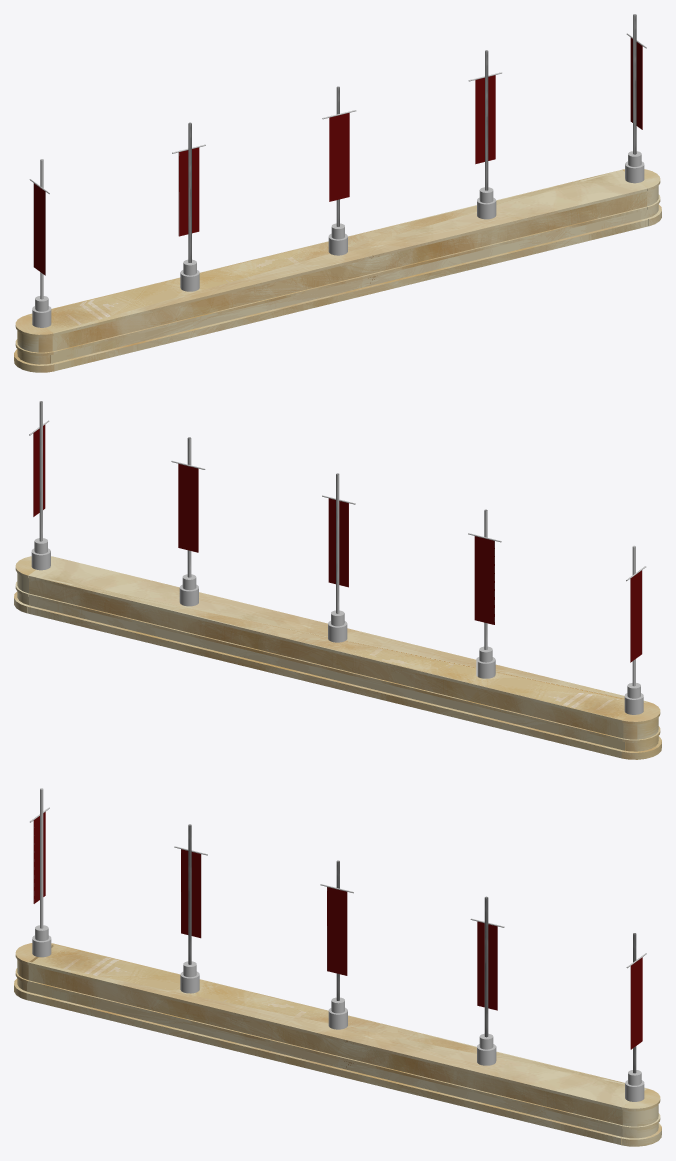
Rendered from NEWMEDIAN7_28_16.fbx.
The picture shows the model from 3 angles, top to bottom: view 1: azimuth 30°, elevation 25°; view 2: azimuth 150°, elevation 25°; view 3: azimuth 330°, elevation 25°; orthographic projection.
Visible parts, largest first — view 1: polySurface29, polySurface31, polySurface23, polySurface25, polySurface19, polySurface27, polySurface21, polySurface30, polySurface7, polySurface10, polySurface16; view 2: polySurface29, polySurface31, polySurface19, polySurface25, polySurface23, polySurface27, polySurface21, polySurface30, polySurface7, polySurface13; view 3: polySurface29, polySurface30, polySurface23, polySurface25, polySurface19, polySurface21, polySurface27, polySurface31, polySurface10, polySurface16, polySurface4.
Boxes of the visible parts, x1=… form: polySurface29: x1=28, y1=169, x2=648, y2=371; polySurface31: x1=14, y1=314, x2=54, y2=372; polySurface23: x1=329, y1=113, x2=349, y2=201; polySurface25: x1=178, y1=147, x2=199, y2=236; polySurface19: x1=475, y1=75, x2=495, y2=164; polySurface27: x1=33, y1=183, x2=45, y2=275; polySurface21: x1=630, y1=37, x2=642, y2=129; polySurface30: x1=622, y1=169, x2=661, y2=226; polySurface7: x1=633, y1=14, x2=636, y2=154; polySurface10: x1=485, y1=50, x2=488, y2=190; polySurface16: x1=188, y1=122, x2=191, y2=262; polySurface29: x1=27, y1=557, x2=647, y2=758; polySurface31: x1=621, y1=702, x2=661, y2=759; polySurface19: x1=178, y1=463, x2=198, y2=552; polySurface25: x1=474, y1=536, x2=494, y2=624; polySurface23: x1=328, y1=498, x2=348, y2=587; polySurface27: x1=630, y1=570, x2=642, y2=662; polySurface21: x1=33, y1=425, x2=45, y2=516; polySurface30: x1=14, y1=556, x2=53, y2=613; polySurface7: x1=39, y1=401, x2=42, y2=541; polySurface13: x1=336, y1=473, x2=339, y2=613; polySurface29: x1=26, y1=943, x2=647, y2=1145; polySurface30: x1=621, y1=1088, x2=661, y2=1146; polySurface23: x1=327, y1=887, x2=347, y2=975; polySurface25: x1=181, y1=849, x2=201, y2=938; polySurface19: x1=477, y1=921, x2=497, y2=1010; polySurface21: x1=630, y1=957, x2=642, y2=1049; polySurface27: x1=33, y1=812, x2=45, y2=903; polySurface31: x1=14, y1=943, x2=53, y2=999; polySurface10: x1=484, y1=896, x2=488, y2=1037; polySurface16: x1=188, y1=824, x2=191, y2=964; polySurface4: x1=40, y1=788, x2=43, y2=928.
Size of the model in its own units: 21.58 by 6.53 by 1.61.
